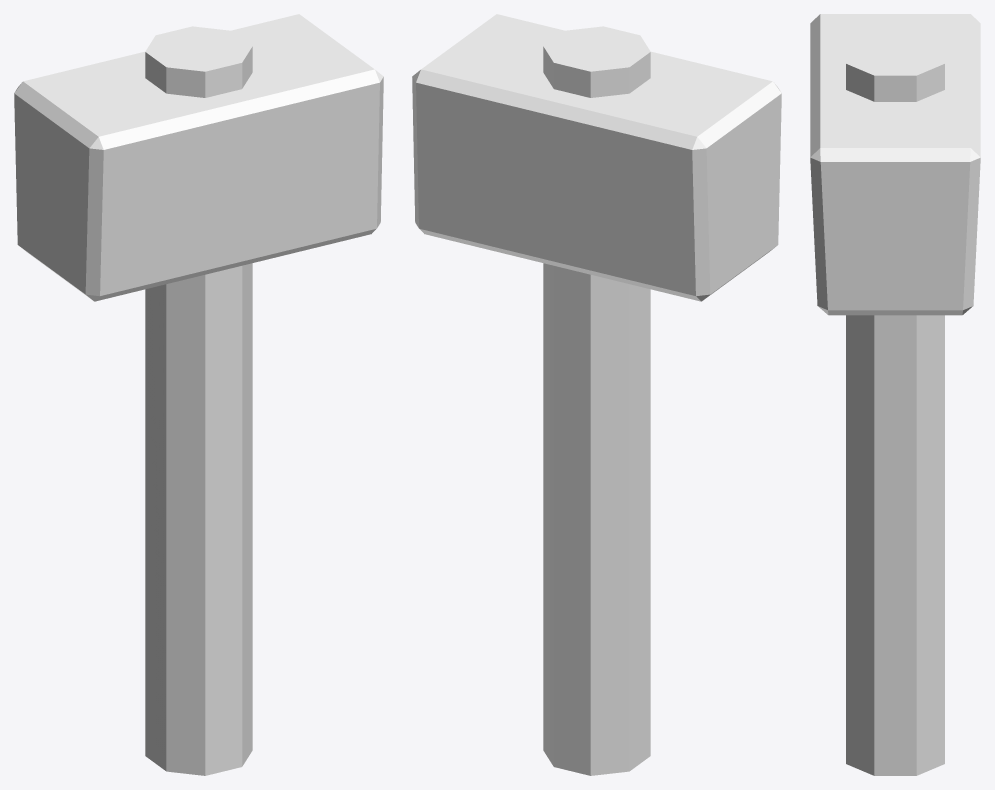
The model's file is Tool_Hammer_05.glb.
The picture shows the model from 3 angles, left to right: view 1: azimuth 30°, elevation 25°; view 2: azimuth 150°, elevation 25°; view 3: azimuth 270°, elevation 25°; orthographic projection.
Visible parts, largest first — view 1: Tool_Hammer_05; view 2: Tool_Hammer_05; view 3: Tool_Hammer_05.
Part boxes in pixels (x1=…): Tool_Hammer_05: x1=14, y1=14, x2=383, y2=775; Tool_Hammer_05: x1=412, y1=14, x2=781, y2=775; Tool_Hammer_05: x1=810, y1=14, x2=980, y2=775.
Bounding box in the file's own units: 0.1316 × 0.3 × 0.0662.
1 material, 1 textured.
